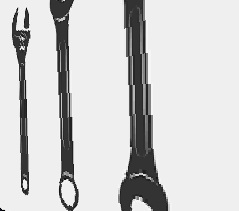Wrench: (45, 3, 90, 211), (7, 3, 39, 202), (105, 156, 188, 211)
